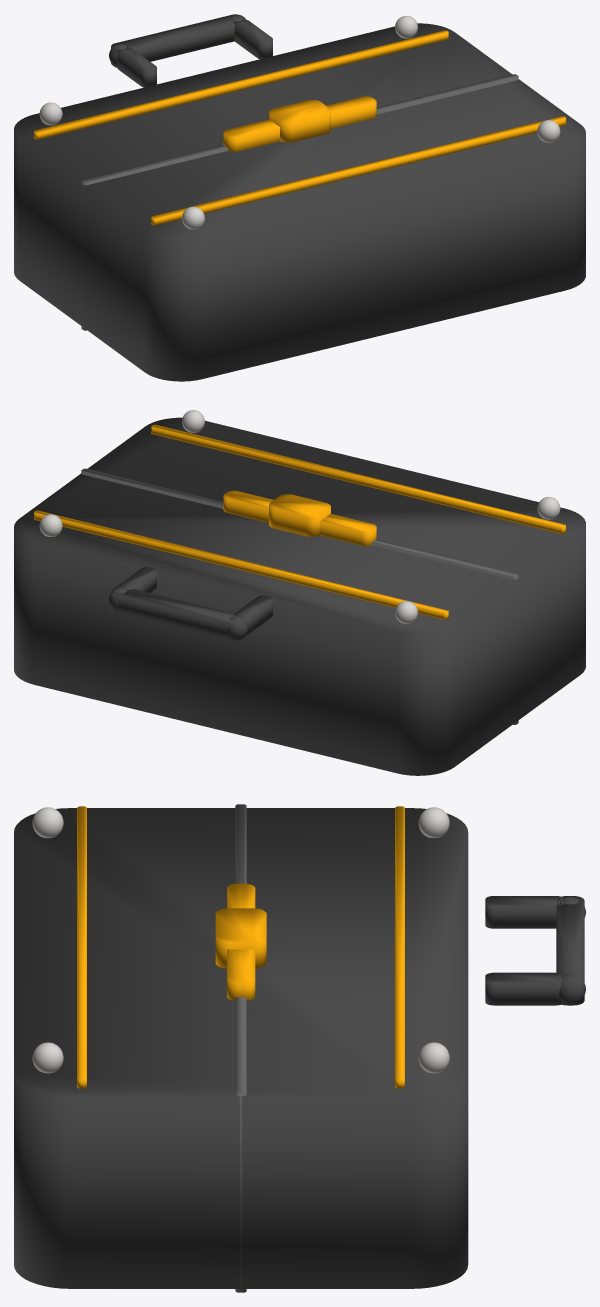
The model's file is briefcase.glb.
The picture shows the model from 3 angles, top to bottom: view 1: azimuth 30°, elevation 25°; view 2: azimuth 150°, elevation 25°; view 3: azimuth 270°, elevation 25°; orthographic projection. The views are drawn at different scales.
Parts seen in each view (by area): view 1: BRBody, BRStitchT, BRStitchB, BRHBar, BRSeam, BRClasp, BRClaspL, BRClaspR, BRHPostL, BRHPostR; view 2: BRBody, BRStitchB, BRStitchT, BRHBar, BRSeam, BRClasp, BRClaspL, BRClaspR, BRHPostL, BRHPostR; view 3: BRBody, BRStitchT, BRStitchB, BRSeam, BRHPostR, BRClasp, BRHPostL, BRHBar, BRClaspR, BRCrn0.001, BRCrn0.98, BRCrn-0.001 (+2 smaller).
Boxes of the visible parts, x1,y1,x2,y2 form: BRBody: (14,23,585,381); BRStitchT: (34,30,448,139); BRStitchB: (151,116,565,225); BRHBar: (111,14,245,67); BRSeam: (81,74,518,330); BRClasp: (269,100,330,142); BRClaspL: (223,119,279,151); BRClaspR: (326,96,376,128); BRHPostL: (117,47,156,87); BRHPostR: (233,19,272,59); BRBody: (14,417,585,775); BRStitchB: (151,424,565,533); BRStitchT: (34,510,448,619); BRHBar: (111,587,245,640); BRSeam: (81,468,518,724); BRClasp: (269,494,330,536); BRClaspL: (320,513,376,546); BRClaspR: (223,490,273,522); BRHPostL: (234,595,272,635); BRHPostR: (117,567,156,592); BRBody: (14,808,468,1288); BRStitchT: (395,806,404,1088); BRStitchB: (77,806,86,1088); BRSeam: (235,804,246,1292); BRHPostR: (485,972,563,1005); BRClasp: (215,908,266,968); BRHPostL: (485,896,563,928); BRHBar: (556,896,584,1005); BRClaspR: (227,949,255,1000); BRCrn0.001: (418,1042,449,1073); BRCrn0.98: (32,1042,63,1073); BRCrn-0.001: (418,807,449,838).
Bounding box in the file's own units: 2.4 × 0.87 × 2.01.
